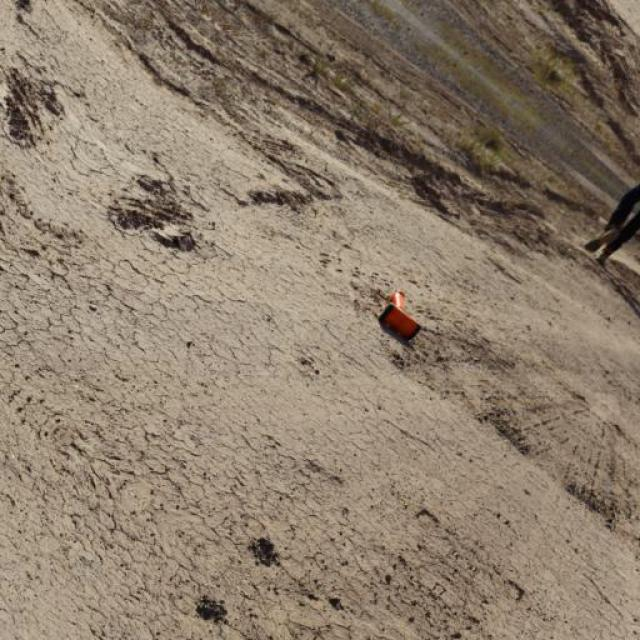mallet: (378, 288, 422, 342)
